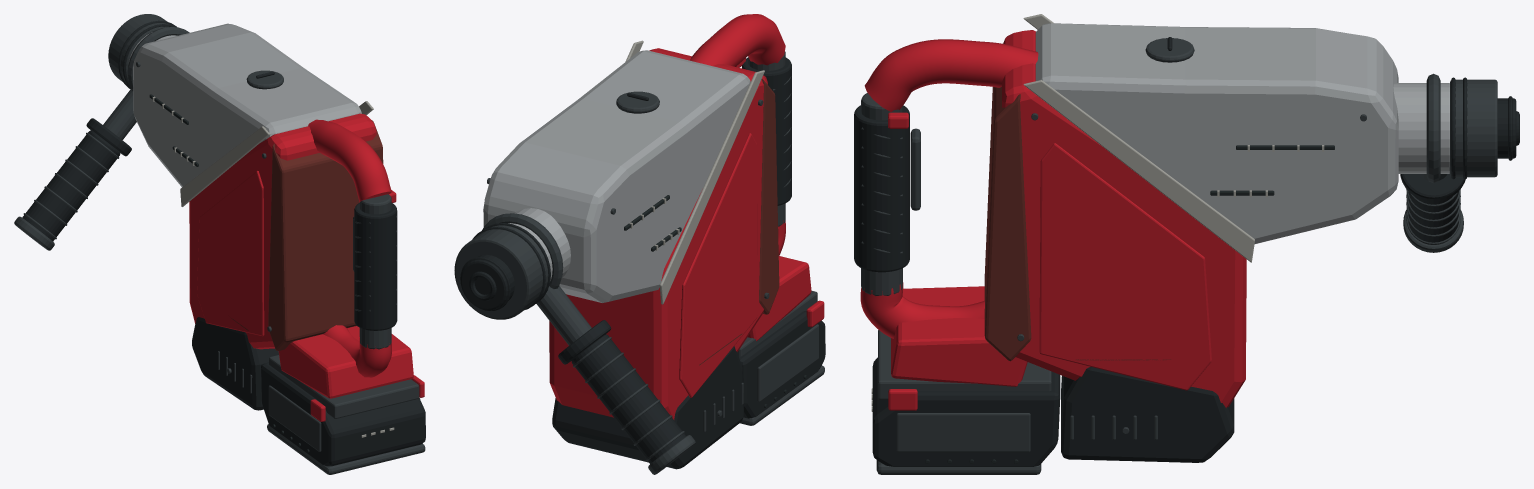
The model's file is sds-max-reference.glb.
The picture shows the model from 3 angles, left to right: view 1: azimuth 30°, elevation 25°; view 2: azimuth 150°, elevation 25°; view 3: azimuth 270°, elevation 25°; orthographic projection. The views are drawn at different scales.
Visible parts, largest first — view 1: A1 cast horizontal impact housing, A4 rear motor spine, A6 inset curved motor cheek -1, D3 removable battery shell, A2 red vertical motor shell, C4 full rear rubber grip, D1 sloping rear battery foot, A3 deep motor impact boot, E4 full auxiliary rubber grip, C1 upper reinforced handle bridge, D2 battery sliding rails, D6 battery inset panel -1 (+10 smaller); view 2: A1 cast horizontal impact housing, A2 red vertical motor shell, A6 inset curved motor cheek -1, A3 deep motor impact boot, E4 full auxiliary rubber grip, B2 black SDS Max locking sleeve, A4 rear motor spine, C1 upper reinforced handle bridge, D3 removable battery shell, A5 raised alloy diagonal seam -1, C4 full rear rubber grip, D6 battery inset panel -1 (+14 smaller); view 3: A1 cast horizontal impact housing, A6 inset curved motor cheek 1, A2 red vertical motor shell, A3 deep motor impact boot, A4 rear motor spine, D1 sloping rear battery foot, D3 removable battery shell, C4 full rear rubber grip, C1 upper reinforced handle bridge, D6 battery inset panel 1, A5 raised alloy diagonal seam 1, B2 black SDS Max locking sleeve (+11 smaller).
Boxes of the visible parts, x1,y1,x2,y2 form: A1 cast horizontal impact housing: (133, 23, 361, 187); A4 rear motor spine: (268, 120, 383, 350); A6 inset curved motor cheek -1: (197, 170, 264, 336); D3 removable battery shell: (261, 362, 425, 466); A2 red vertical motor shell: (189, 113, 376, 349); C4 full rear rubber grip: (354, 203, 397, 330); D1 sloping rear battery foot: (278, 326, 413, 398); A3 deep motor impact boot: (192, 317, 278, 410); E4 full auxiliary rubber grip: (22, 130, 120, 241); C1 upper reinforced handle bridge: (308, 119, 391, 202); D2 battery sliding rails: (269, 355, 419, 418); D6 battery inset panel -1: (268, 385, 321, 451); A1 cast horizontal impact housing: (483, 50, 750, 302); A2 red vertical motor shell: (549, 48, 767, 419); A6 inset curved motor cheek -1: (679, 133, 757, 397); A3 deep motor impact boot: (552, 346, 743, 469); E4 full auxiliary rubber grip: (571, 334, 685, 463); B2 black SDS Max locking sleeve: (454, 225, 548, 319); A4 rear motor spine: (759, 79, 779, 314); C1 upper reinforced handle bridge: (690, 14, 785, 66); D3 removable battery shell: (739, 311, 825, 418); A5 raised alloy diagonal seam -1: (659, 70, 764, 304); C4 full rear rubber grip: (742, 57, 791, 205); D6 battery inset panel -1: (757, 324, 818, 401); A1 cast horizontal impact housing: (1035, 23, 1398, 243); A6 inset curved motor cheek 1: (1039, 143, 1211, 390); A2 red vertical motor shell: (1002, 30, 1246, 407); A3 deep motor impact boot: (1061, 367, 1234, 462); A4 rear motor spine: (984, 87, 1031, 361); D1 sloping rear battery foot: (891, 286, 1027, 386); D3 removable battery shell: (872, 357, 1060, 466); C4 full rear rubber grip: (854, 105, 909, 272); C1 upper reinforced handle bridge: (864, 39, 1038, 111); D6 battery inset panel 1: (896, 413, 1030, 452); A5 raised alloy diagonal seam 1: (1023, 80, 1254, 262); B2 black SDS Max locking sleeve: (1450, 79, 1497, 177).
Bounding box in the file's own units: 0.2592 × 0.3825 × 0.571.
